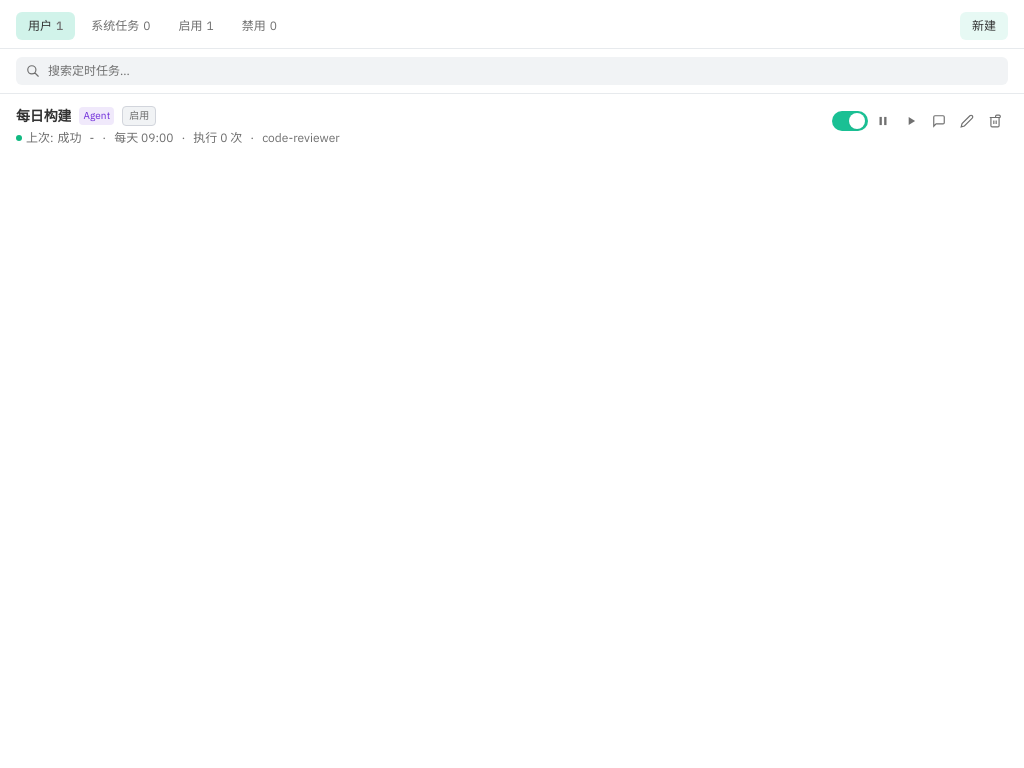
Test case: 能力类任务：会话列表与跳转（B2） › 跳转失败（ok:false）：给出可读原因
Click the button "每日构建 Agent 启用 上次: 成功 - · 每天 09:00 · 执行 0 次 · code-reviewer" at coordinates (44, 116), box left=16, top=106, right=820, bottom=146
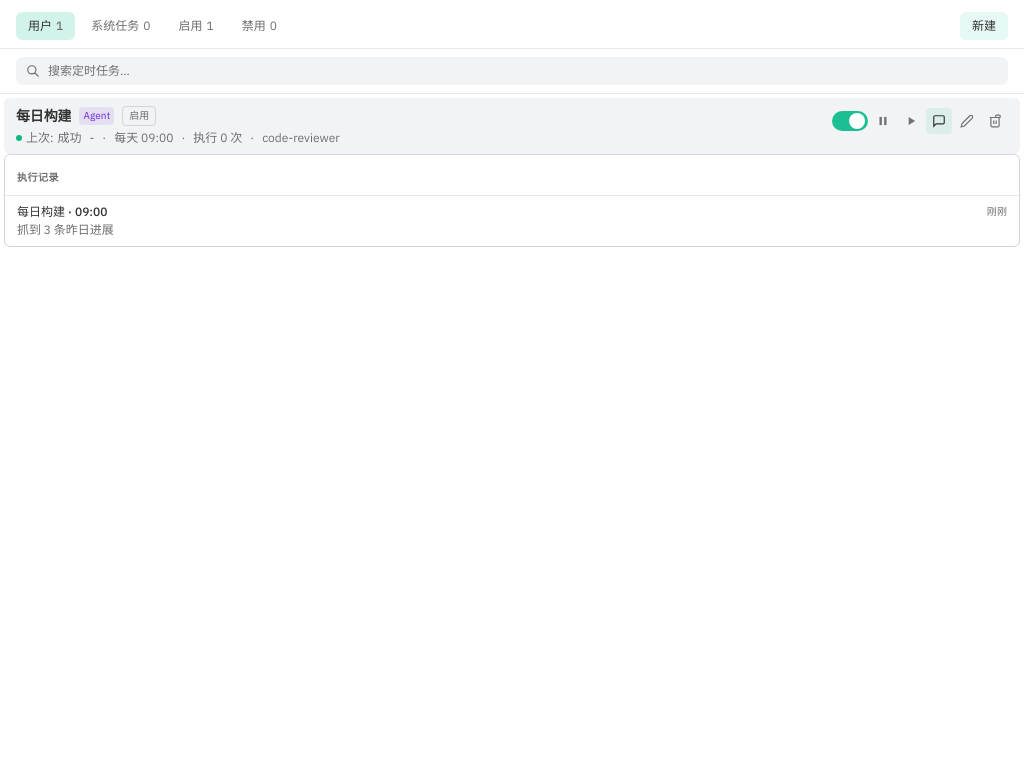
Click the button with aria-label "打开会话：每日构建 · 09:00" at coordinates (62, 212), box left=5, top=196, right=1019, bottom=246
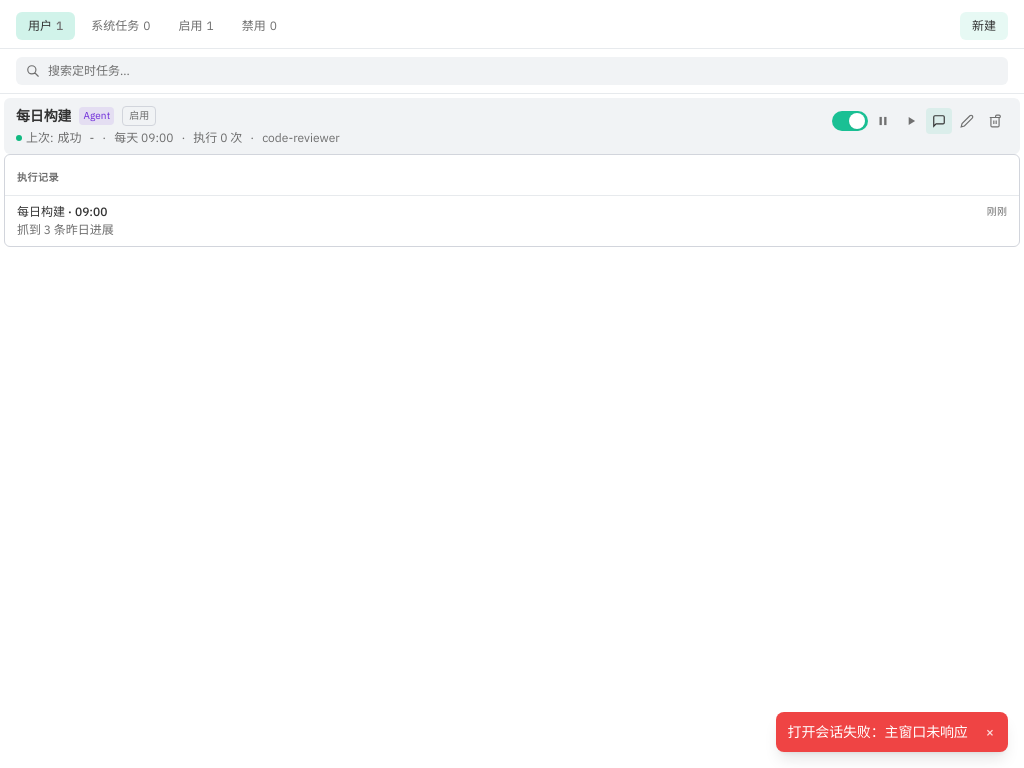
Now the text "打开会话失败：主窗口未响应" is shown, box left=788, top=723, right=968, bottom=741
